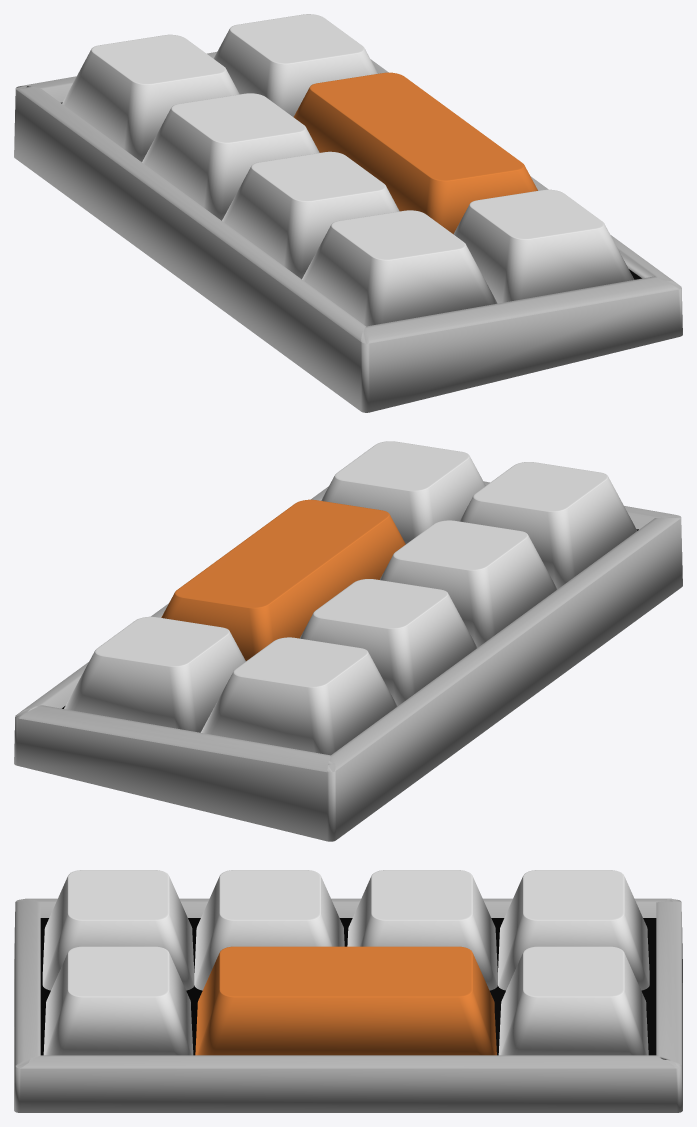
File: small_keyboard_2.glb
3 renders of one model, top to bottom at view 1: azimuth 30°, elevation 25°; view 2: azimuth 150°, elevation 25°; view 3: azimuth 270°, elevation 25°, orthographic. The views are drawn at different scales.
Visible parts, largest first — view 1: Keyboard_base, Cube.006, Cube, Cube.007, Cube.001, Cube.002, Cube.003, Cube.005; view 2: Keyboard_base, Cube.006, Cube.002, Cube.005, Cube.001, Cube, Cube.003, Cube.007; view 3: Keyboard_base, Cube.006, Cube.005, Cube.007, Cube, Cube.002, Cube.001, Cube.003.
Part boxes in pixels (x1=…): Keyboard_base: x1=14, y1=52, x2=682, y2=412; Cube.006: x1=293, y1=72, x2=537, y2=234; Cube: x1=302, y1=210, x2=497, y2=326; Cube.007: x1=453, y1=189, x2=634, y2=303; Cube.001: x1=222, y1=151, x2=399, y2=279; Cube.002: x1=62, y1=34, x2=239, y2=161; Cube.003: x1=142, y1=93, x2=319, y2=220; Cube.005: x1=213, y1=14, x2=377, y2=116; Keyboard_base: x1=14, y1=481, x2=682, y2=841; Cube.006: x1=161, y1=499, x2=405, y2=660; Cube.002: x1=201, y1=637, x2=397, y2=755; Cube.005: x1=64, y1=616, x2=245, y2=732; Cube.001: x1=380, y1=520, x2=557, y2=647; Cube: x1=459, y1=462, x2=637, y2=589; Cube.003: x1=300, y1=579, x2=477, y2=706; Cube.007: x1=321, y1=441, x2=485, y2=543; Keyboard_base: x1=14, y1=898, x2=682, y2=1112; Cube.006: x1=195, y1=946, x2=496, y2=1055; Cube.005: x1=498, y1=946, x2=648, y2=1055; Cube.007: x1=43, y1=946, x2=193, y2=1055; Cube: x1=42, y1=870, x2=194, y2=990; Cube.002: x1=498, y1=870, x2=649, y2=990; Cube.001: x1=194, y1=870, x2=344, y2=990; Cube.003: x1=347, y1=870, x2=497, y2=990.
Size of the model in its own units: 4.64 by 1.66 by 8.82.
